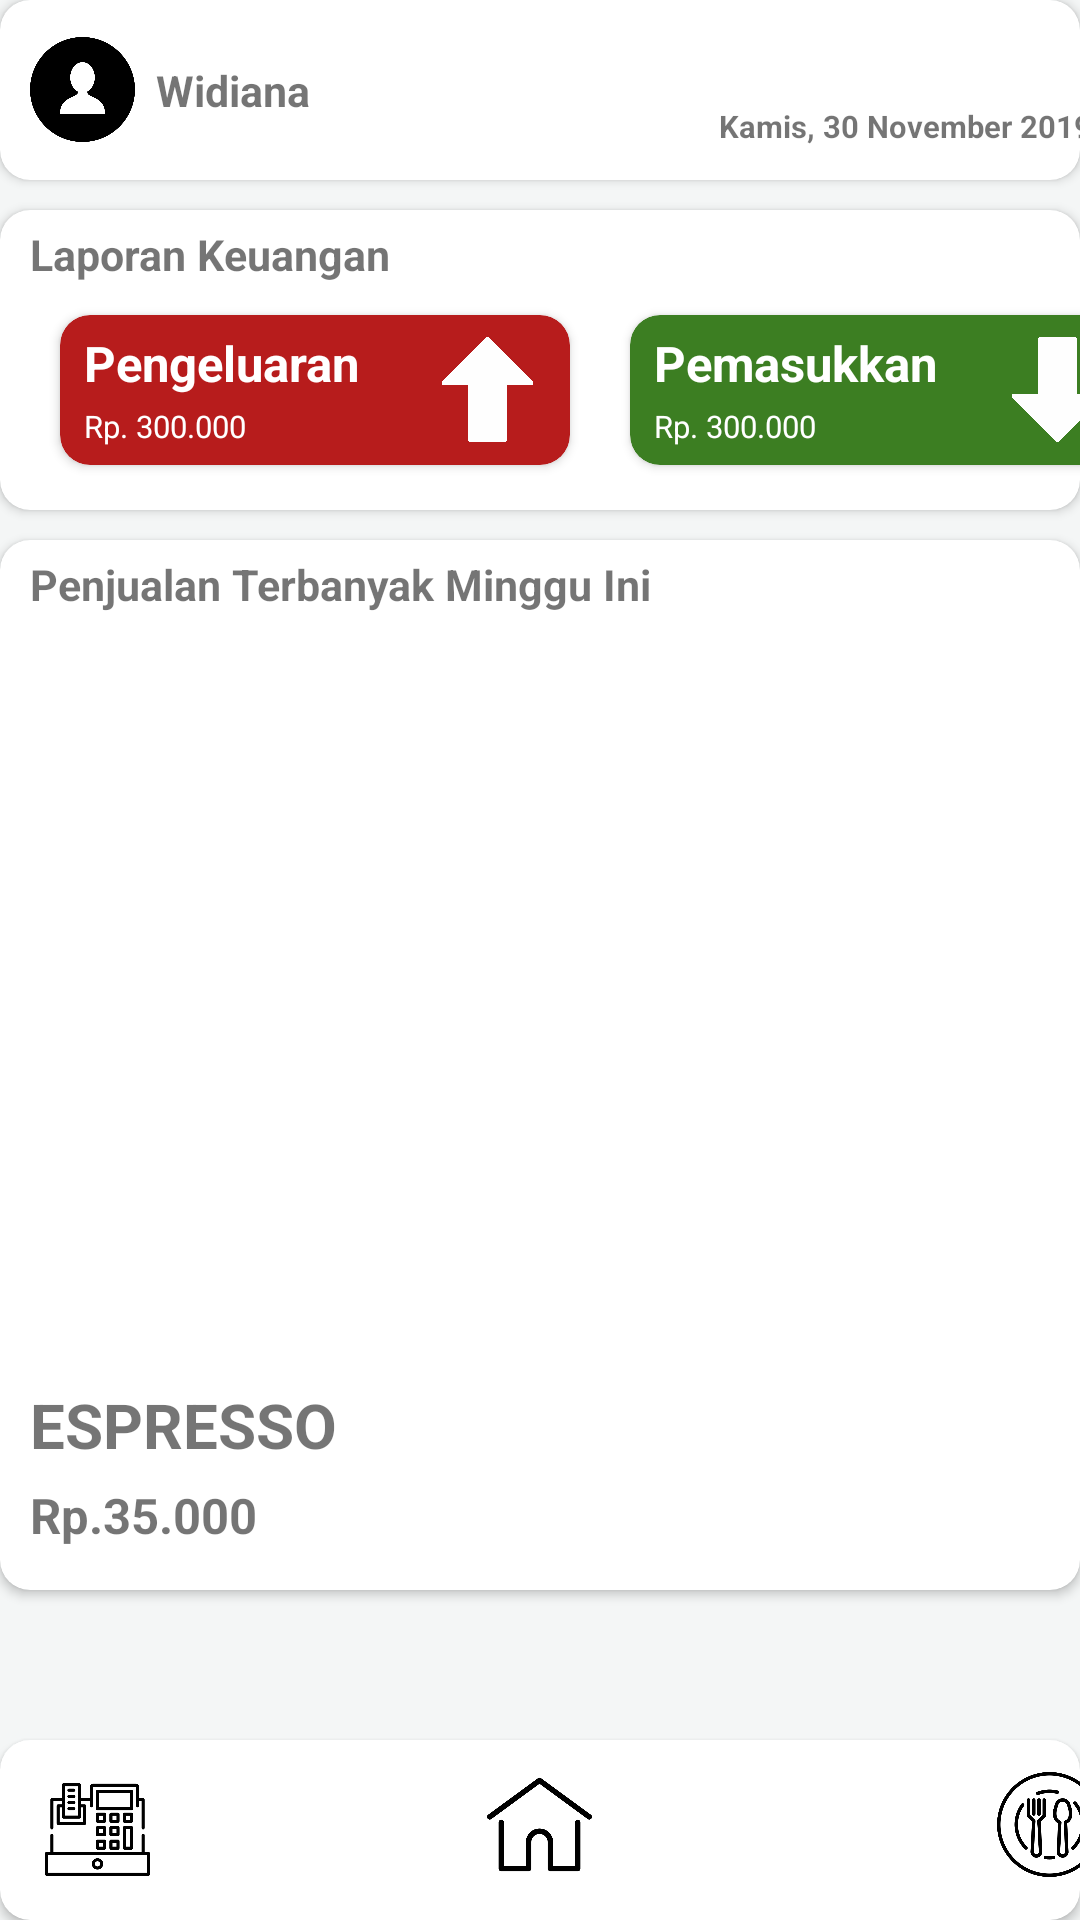

Icons on this 1080x1920 Android screen, each with the point to tap as (x,y):
home: (539,1824)
kasir: (97,1829)
user: (82,89)
